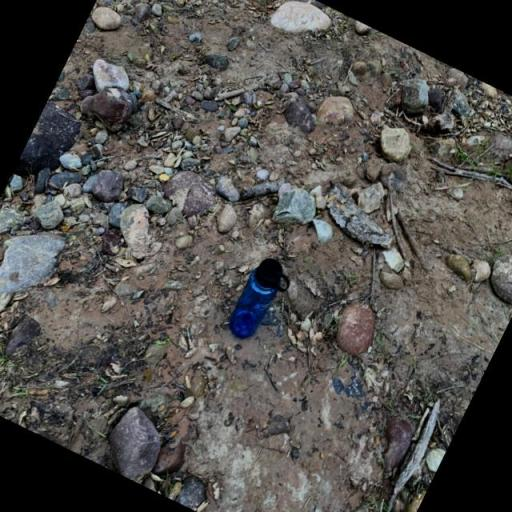bottle: (222, 252, 297, 348)
